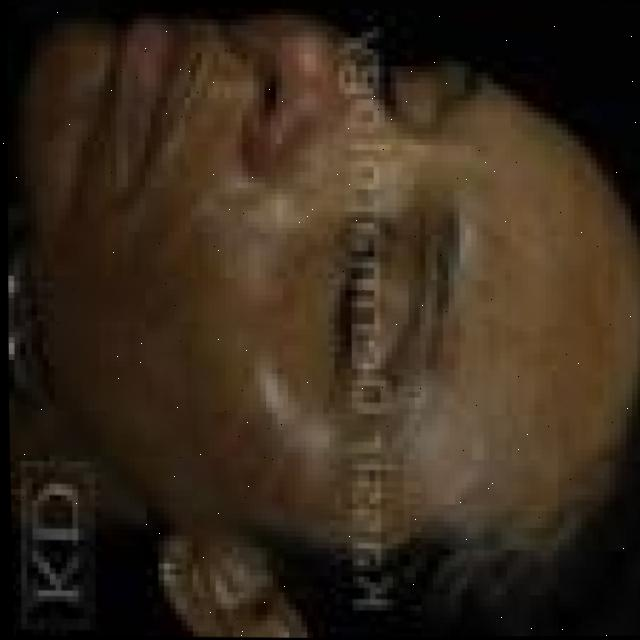Melasma: (120, 195, 342, 527), (462, 129, 640, 482)
